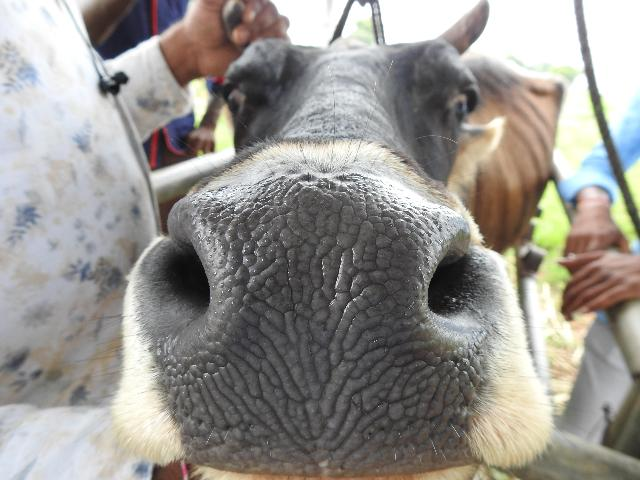Muzzle: (190, 202, 442, 462)
